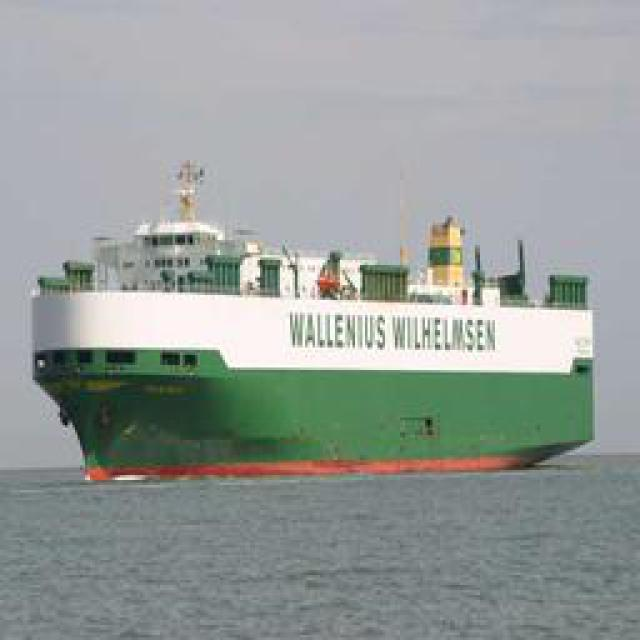Ship: (33, 187, 591, 490)
